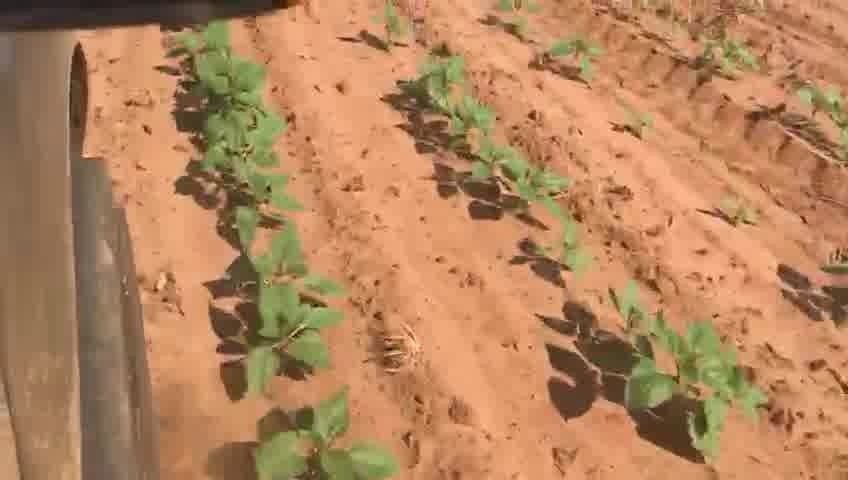sunflower: (625, 323, 774, 463), (244, 388, 402, 479), (234, 287, 341, 399), (213, 163, 298, 248), (223, 221, 324, 289), (528, 200, 599, 282), (196, 48, 274, 120), (196, 109, 277, 170), (600, 270, 665, 343), (488, 156, 575, 209), (536, 32, 614, 90), (463, 136, 520, 189), (433, 91, 499, 136), (402, 51, 468, 95), (375, 4, 411, 55)
